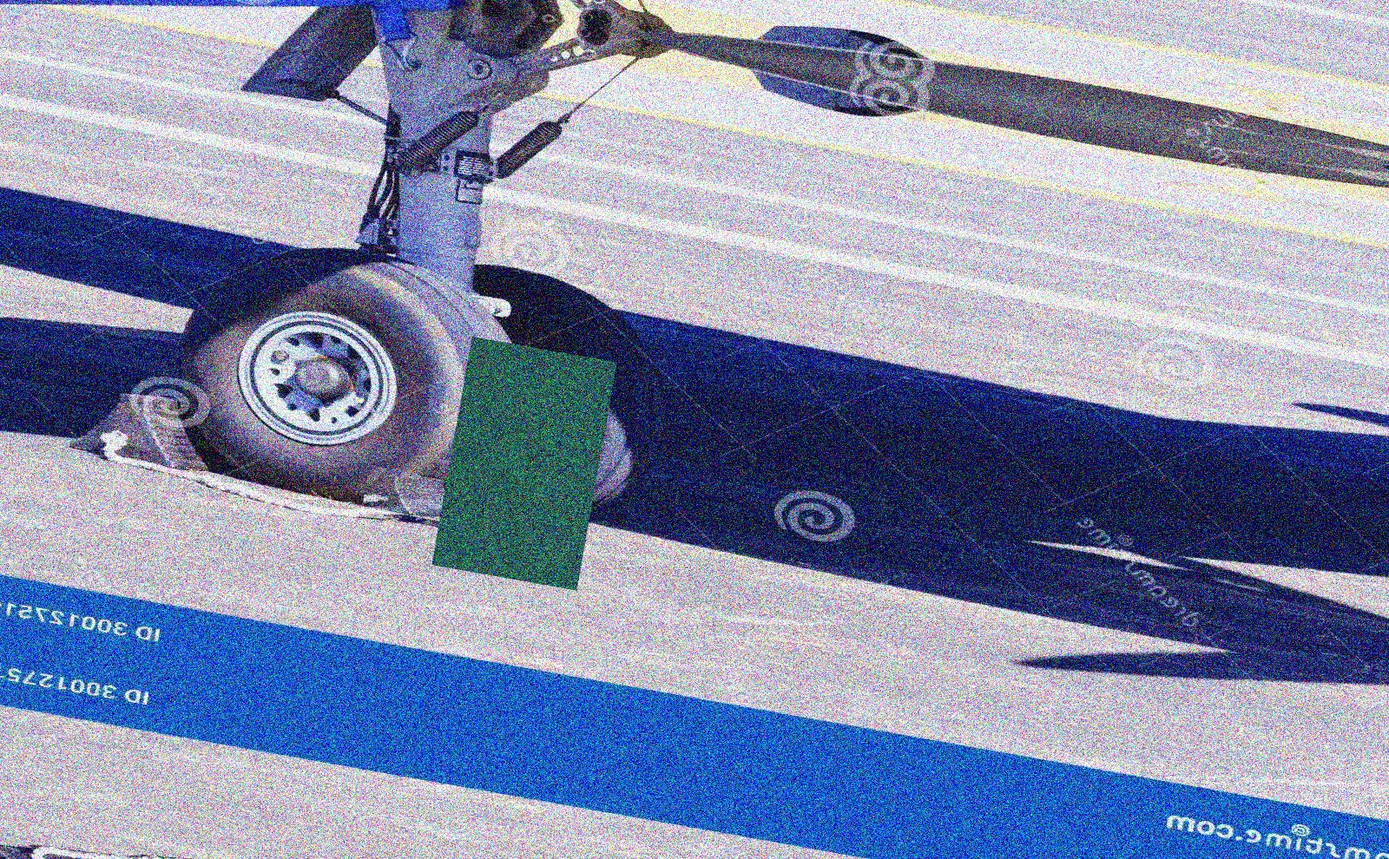chock: (397, 443, 605, 558), (66, 379, 222, 482), (362, 465, 472, 526)
wheel: (160, 221, 552, 527), (424, 257, 693, 535)
